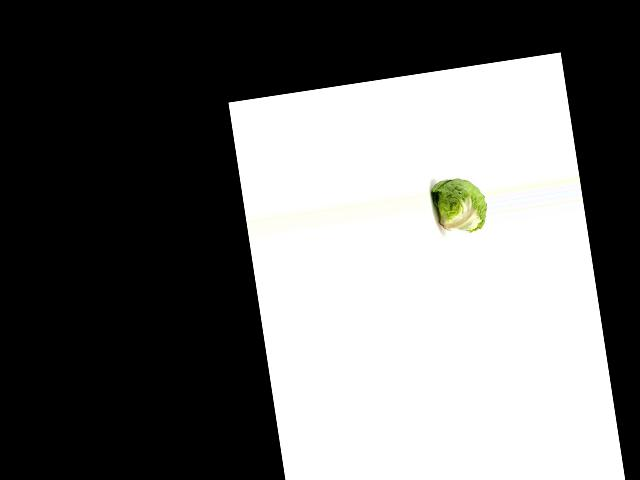lettuce: (426, 173, 490, 238)
